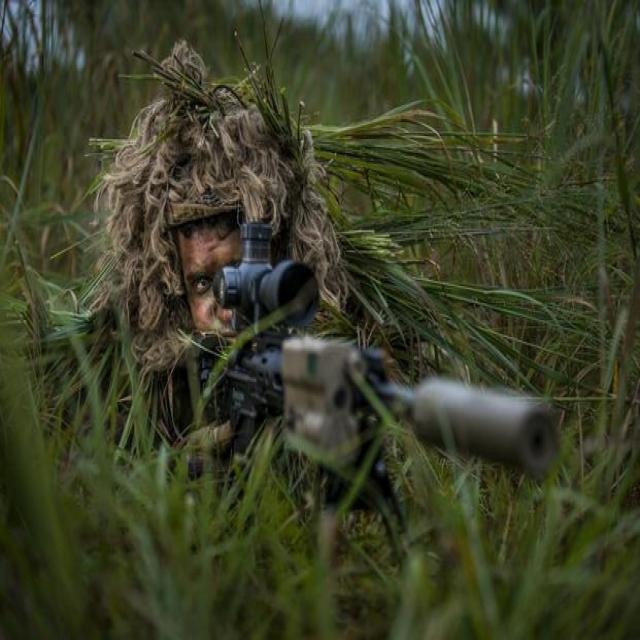scope: (204, 238, 314, 337)
sniper rifle: (162, 245, 545, 532)
